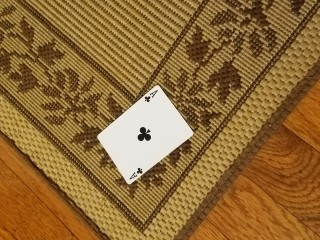AceOfClubs: (97, 84, 193, 184)
